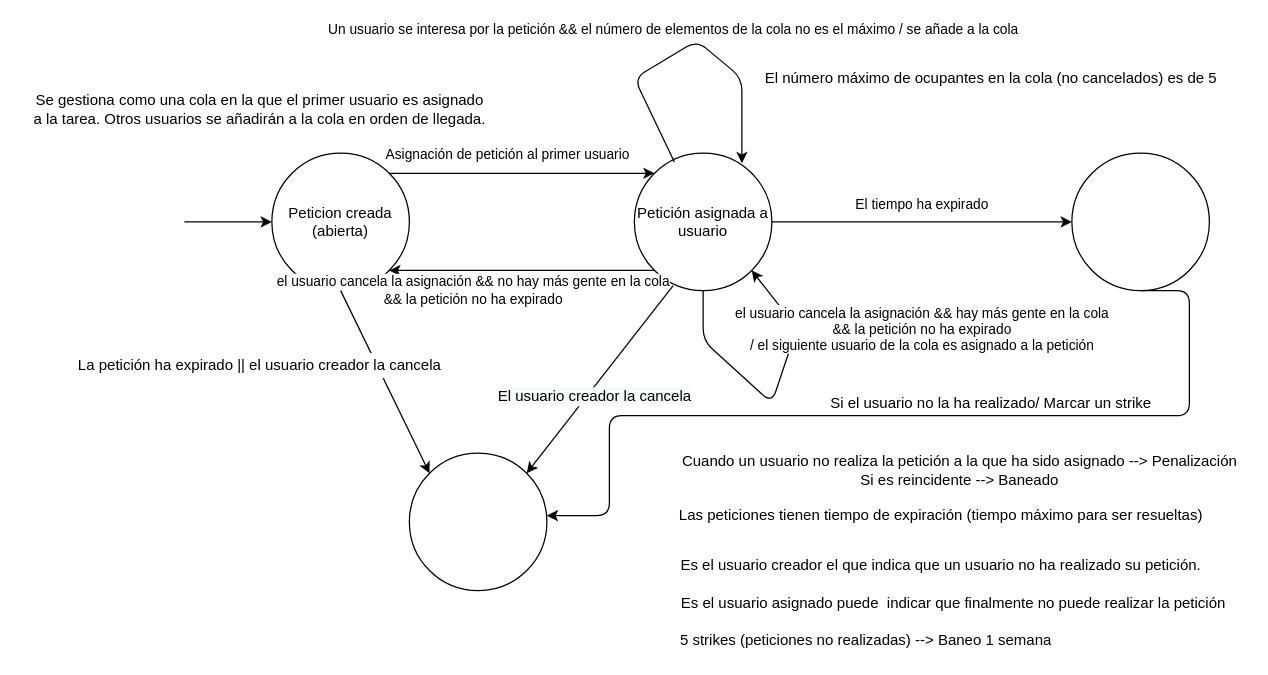
Some shapes in this 1268 by 675 pixel diagram are drawn without their labels. The shapes that lost their labels are listed below. From the top down, each one's box as (x1, y1, x2, y2) in pixels, then its label:
(1071, 152, 1209, 291): Petición completada
(408, 452, 547, 591): Petición cancelada
